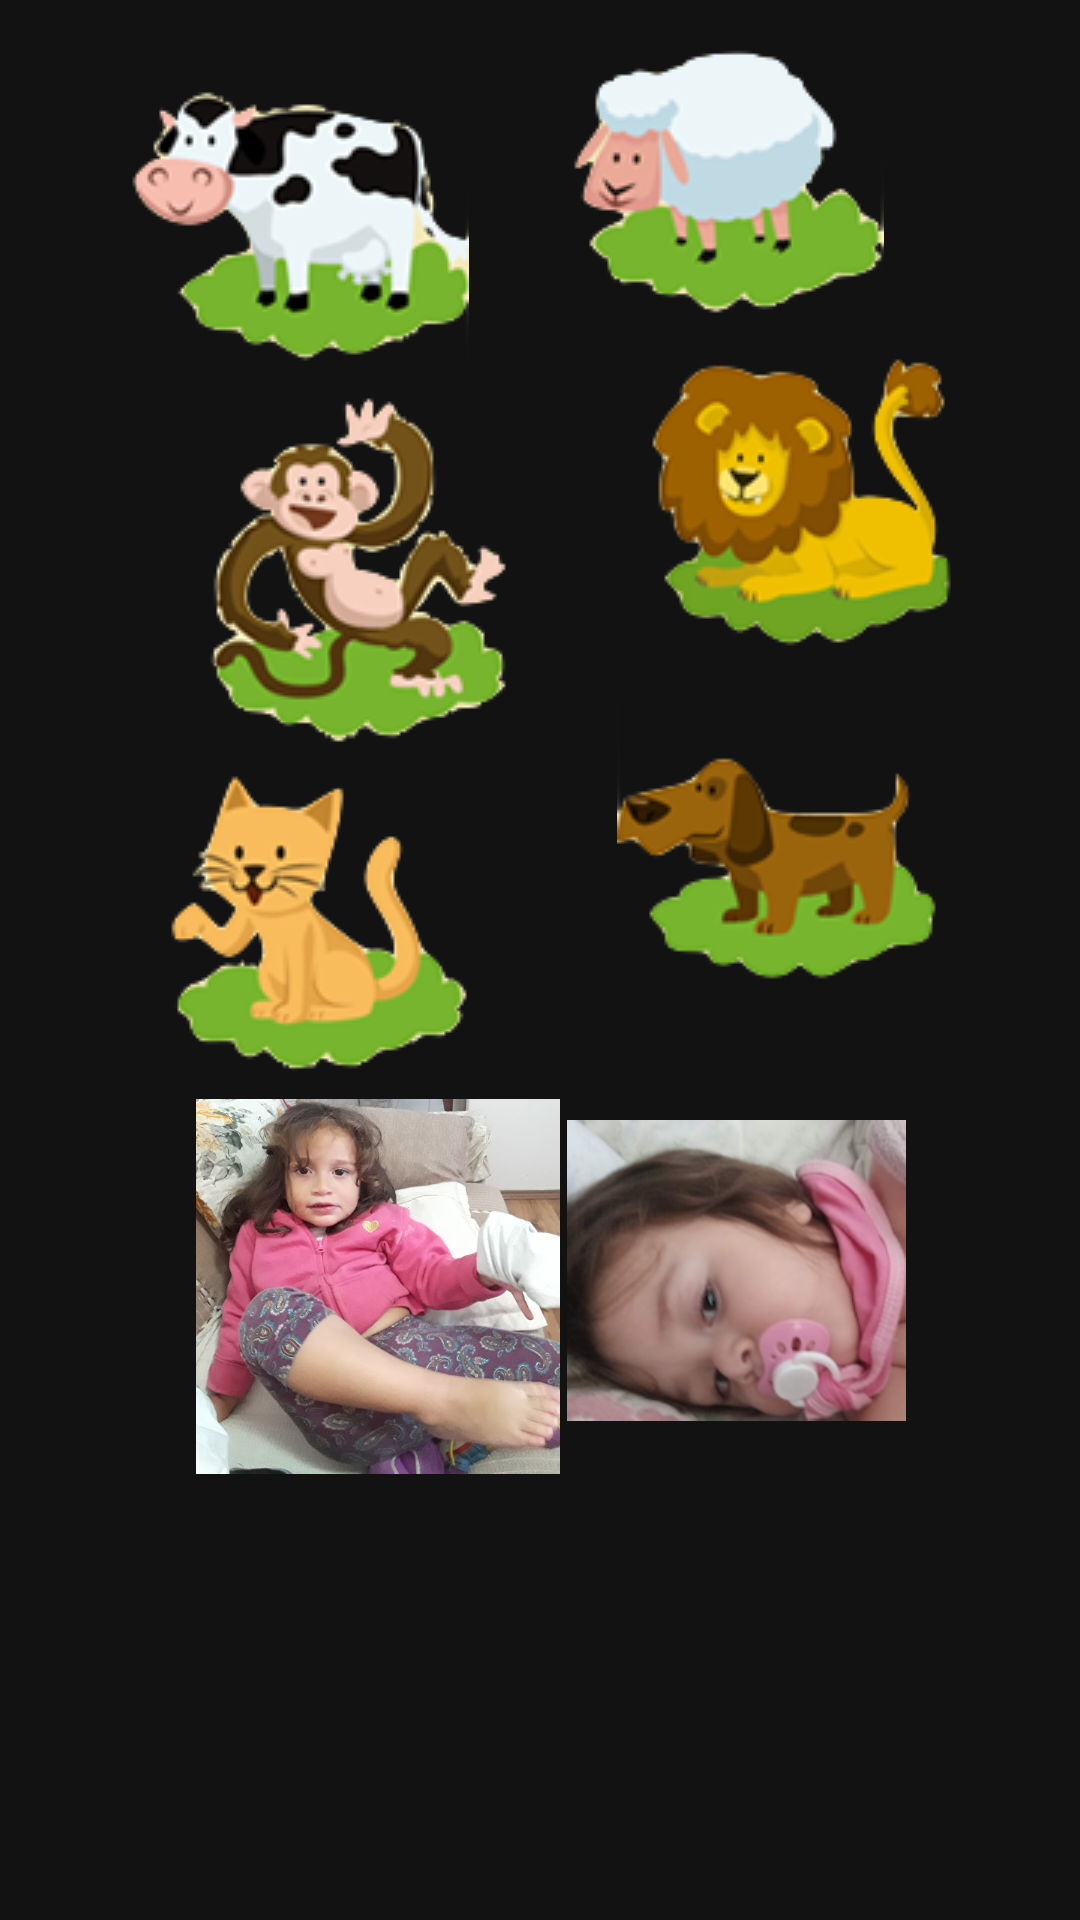

Where icons sit on this 1080 × 1920 app screen, as [x1=x1, y1=y1, x2=x2, y2=y2]:
cao: [x1=617, y1=758, x2=936, y2=979]
gato: [x1=171, y1=776, x2=467, y2=1069]
leao: [x1=652, y1=359, x2=951, y2=645]
macaco: [x1=211, y1=398, x2=506, y2=742]
ovelha: [x1=574, y1=51, x2=884, y2=313]
vaca: [x1=132, y1=92, x2=469, y2=360]
